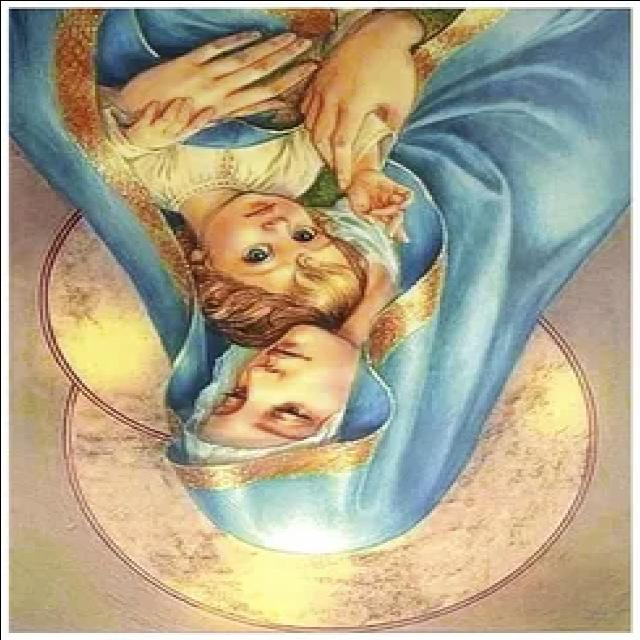mother of god: (0, 0, 640, 570)
